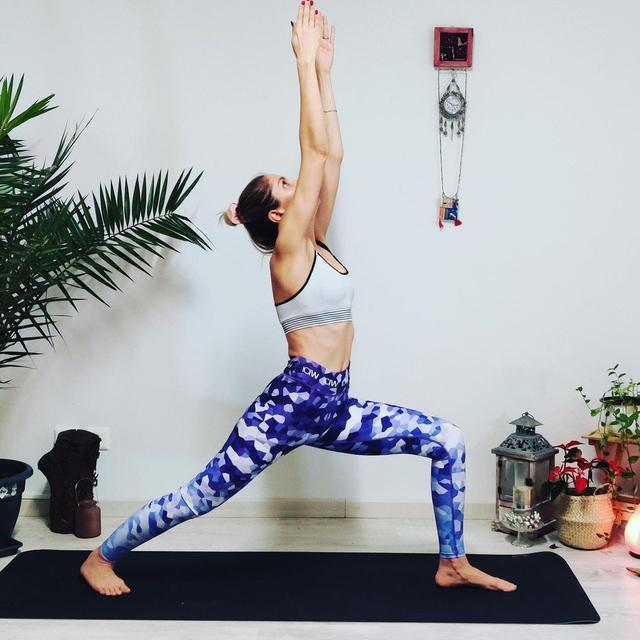Warrior_I: (70, 4, 525, 602)
